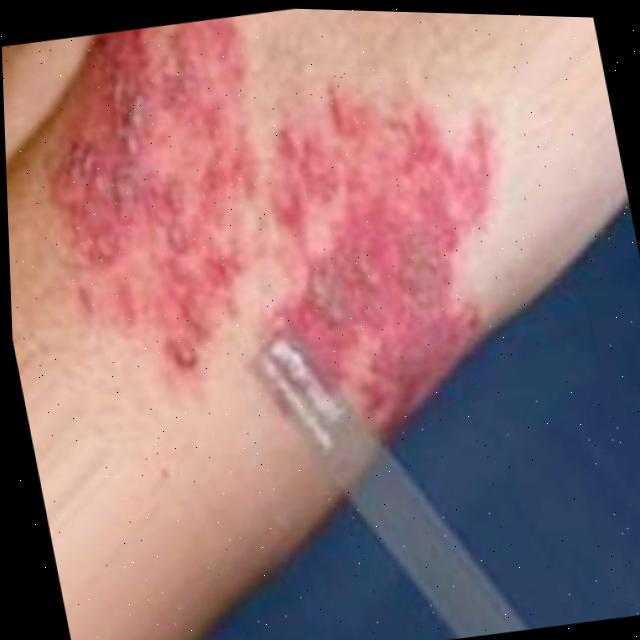Shingles: (18, 21, 276, 385), (273, 102, 511, 391)
